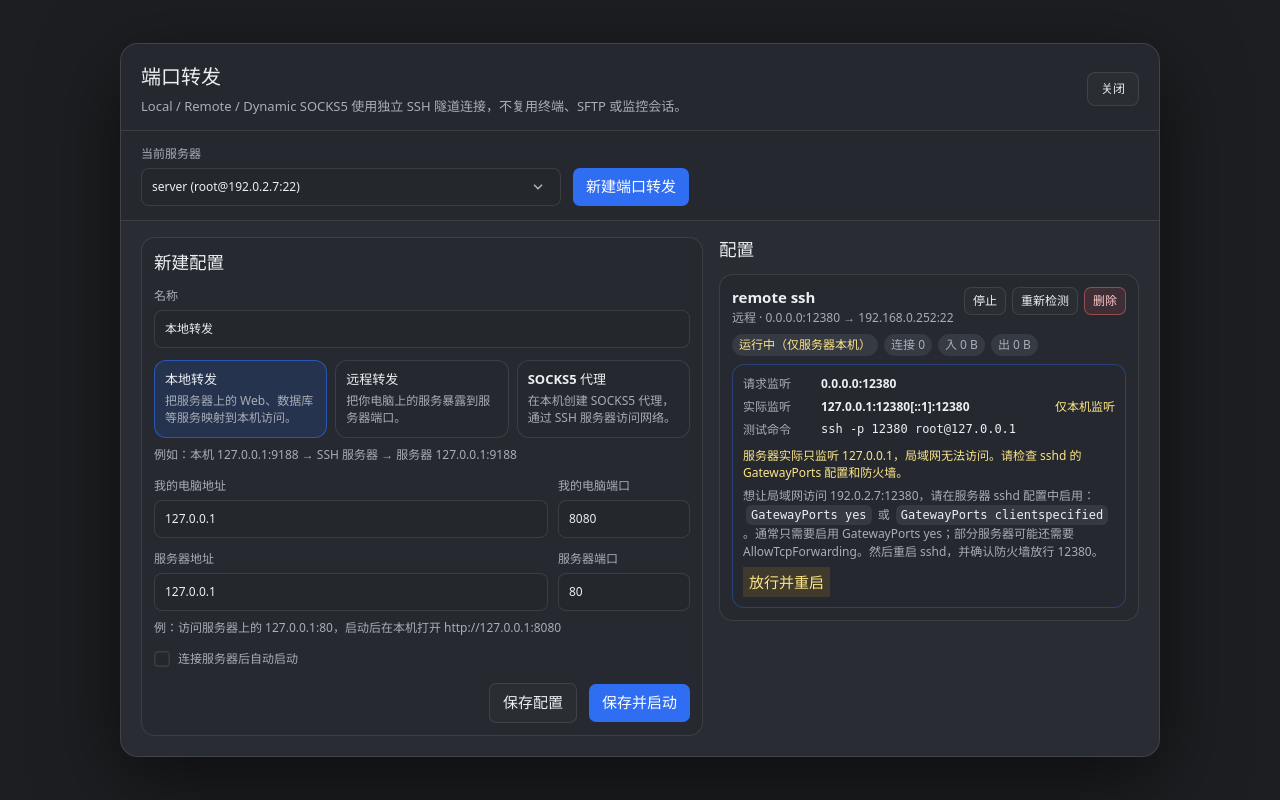
TunnelManagerDialog › shows loopback-only diagnostics and rechecks through backend
The image size is (1280, 800).
expect the element with test id "remote-listen-diagnostics" shows "0.0.0.0:12380": met, box x1=821 y1=374 x2=896 y2=392
expect the button with test id "enable-remote-access" is shown: met, box x1=743 y1=568 x2=830 y2=598
Click the button with test id "check-remote-listen" at [1045, 301], box x1=1012 y1=287 x2=1078 y2=315
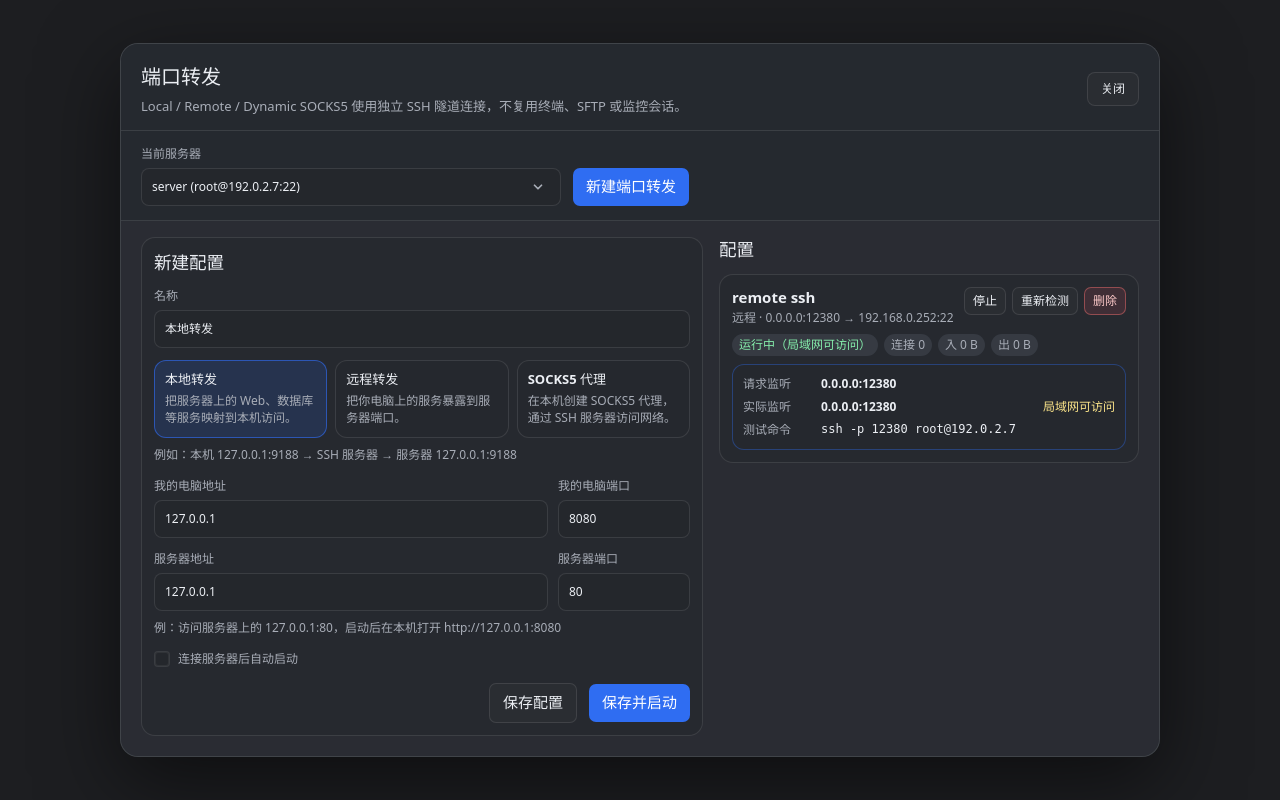
expect the text "运行中（局域网可访问）" is shown: met, box x1=732 y1=334 x2=878 y2=356
expect the text "ssh -p 12380 root@192.0.2.7" is shown: met, box x1=821 y1=422 x2=1016 y2=436
expect the text "服务器实际只监听 127.0.0.1" is gone: met
